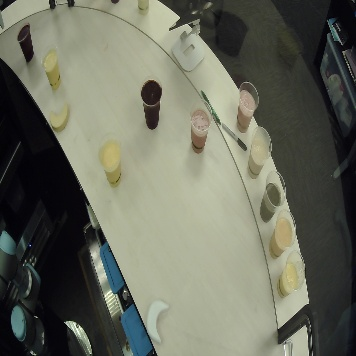full_cup: (93, 134, 129, 191), (186, 94, 214, 159), (268, 209, 301, 264), (272, 244, 305, 299), (134, 74, 165, 132), (245, 126, 275, 183), (232, 78, 262, 134), (257, 166, 285, 224), (37, 44, 68, 91), (12, 19, 36, 64), (135, 1, 153, 17)
puck: (141, 297, 174, 344), (43, 99, 73, 136)
